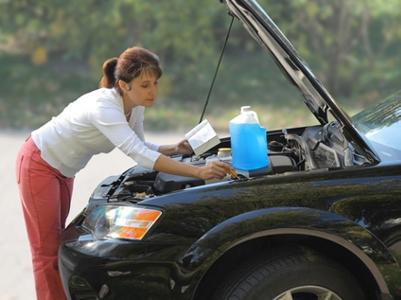person: (13, 45, 237, 300)
